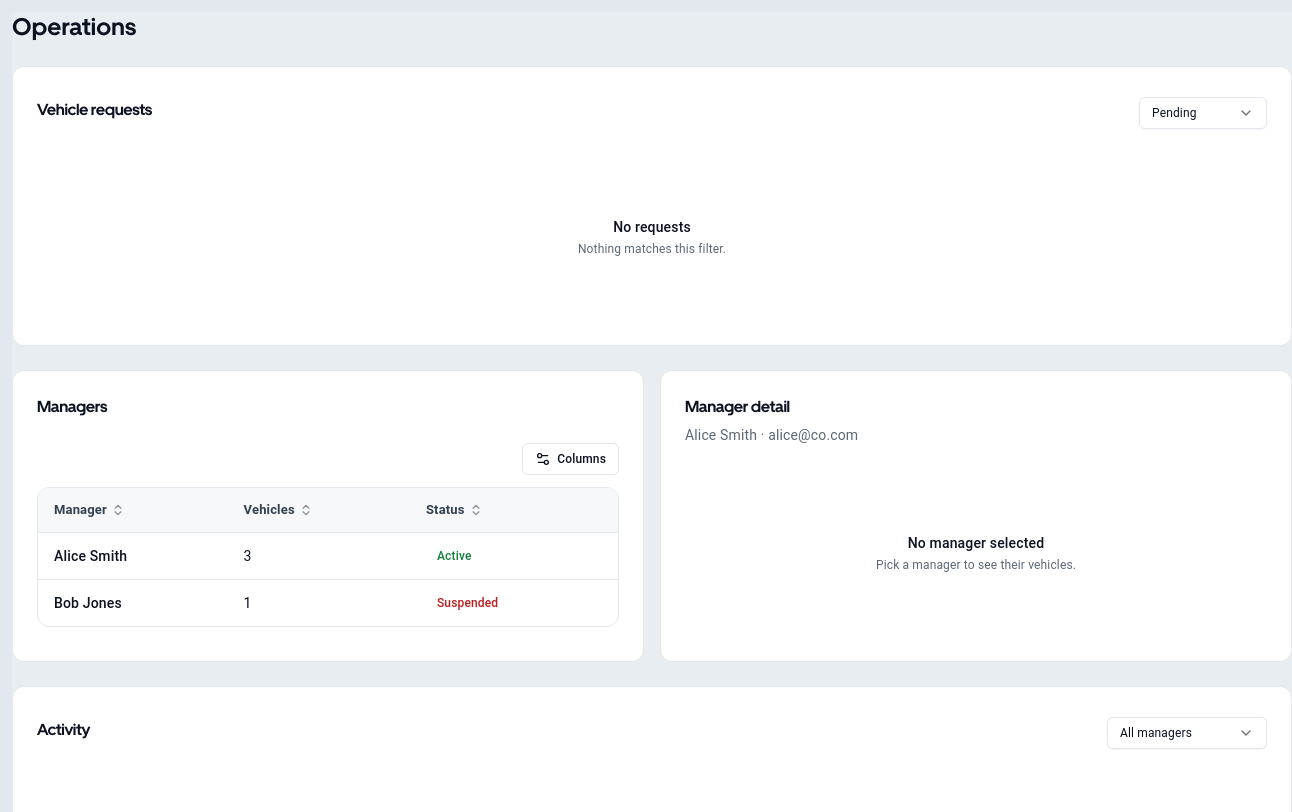
Scenario: OperationsPage › fetches and shows detail once the viewer clicks a manager row
Click the text "Alice Smith": click(91, 556) [54,548,127,564]
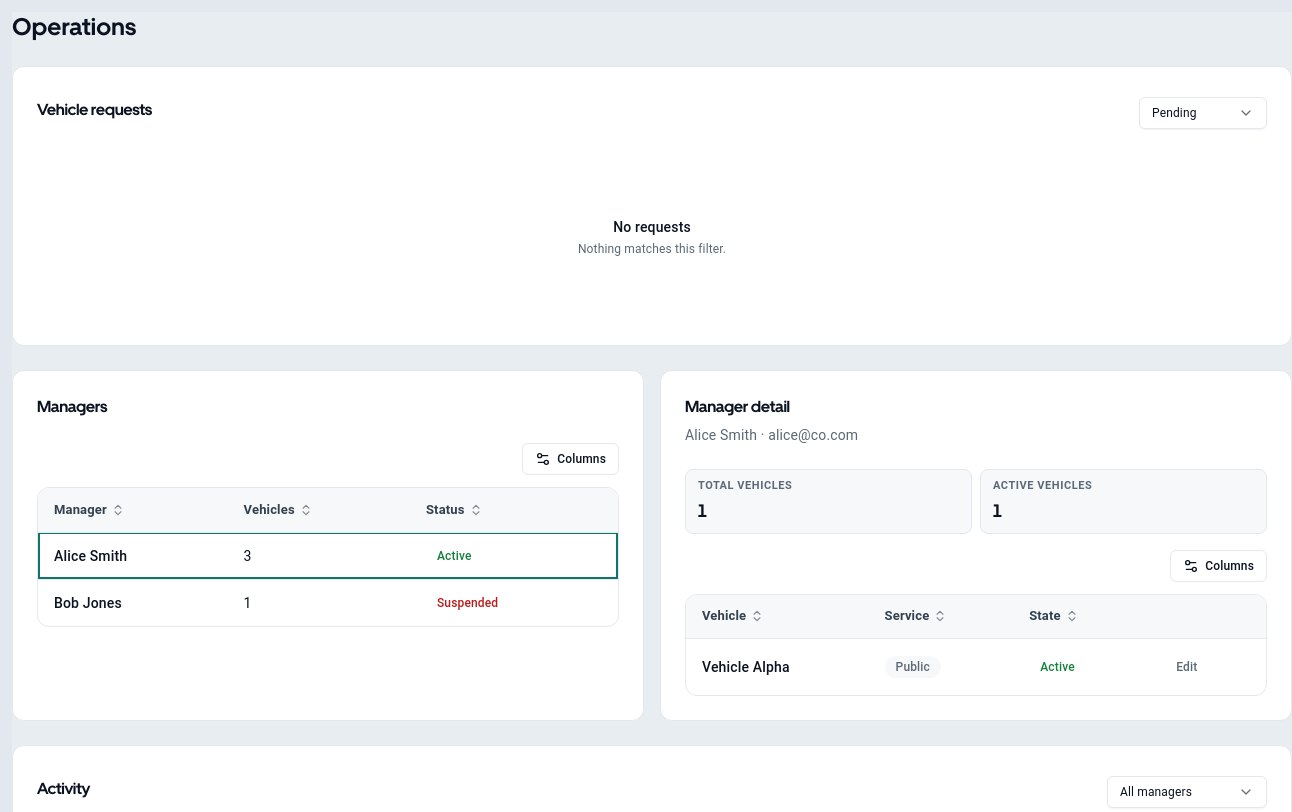
Check: the text "Vehicle Alpha" is shown, box [702,659,790,675]
